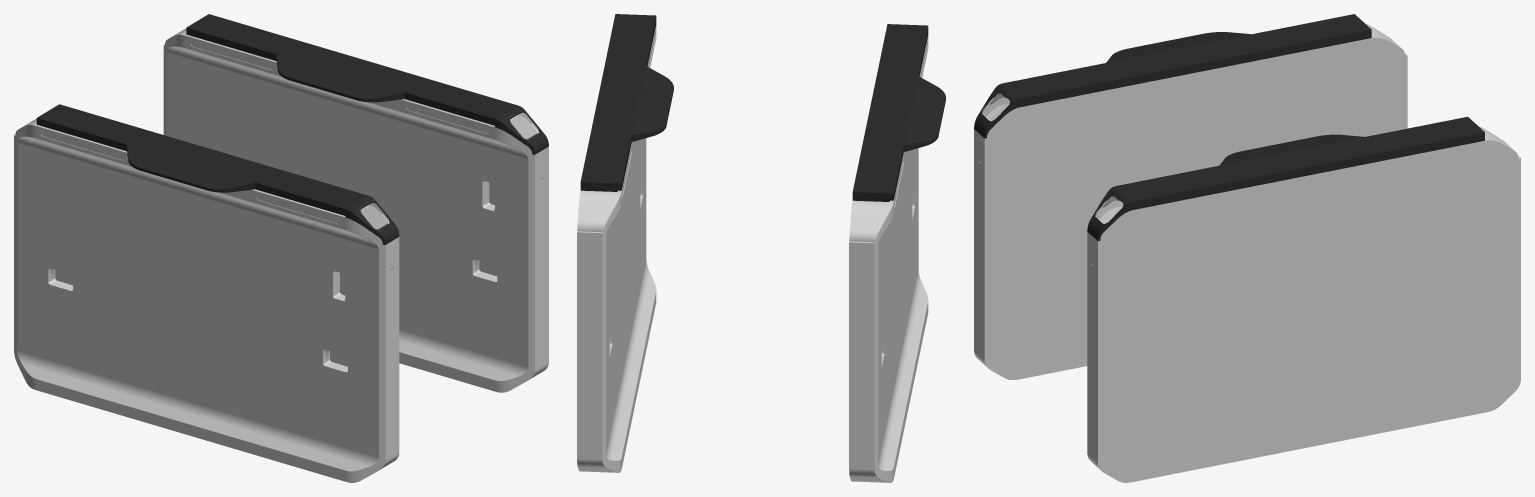
File: gateModel.glb
3 renders of one model, left to right at view 1: azimuth 30°, elevation 25°; view 2: azimuth 150°, elevation 25°; view 3: azimuth 270°, elevation 25°, orthographic. The views are drawn at different scales.
Parts seen in each view (by area): view 1: gateBodyLeftMesh, gateBodyRightMesh, gateCoverTopLeftMesh, gateCoverTopRightMesh, gateCoverSideLeftMesh, gateCoverSideRightMesh; view 2: gateBodyLeftMesh, gateBodyRightMesh, gateCoverTopLeftMesh, gateCoverTopRightMesh; view 3: gateBodyRightMesh, gateBodyLeftMesh, gateCoverTopRightMesh, gateCoverTopLeftMesh, gateCoverSideRightMesh, gateCoverSideLeftMesh.
Boxes of the visible parts, box(x1,y1,x2,y2) form: gateBodyLeftMesh: box(14, 119, 399, 482); gateBodyRightMesh: box(163, 28, 548, 392); gateCoverTopLeftMesh: box(36, 104, 367, 215); gateCoverTopRightMesh: box(186, 14, 516, 125); gateCoverSideLeftMesh: box(345, 195, 399, 244); gateCoverSideRightMesh: box(495, 105, 548, 154); gateBodyLeftMesh: box(849, 36, 928, 482); gateBodyRightMesh: box(577, 26, 656, 472); gateCoverTopLeftMesh: box(852, 26, 945, 201); gateCoverTopRightMesh: box(580, 16, 673, 191); gateBodyRightMesh: box(1087, 126, 1520, 482); gateBodyLeftMesh: box(974, 23, 1407, 379); gateCoverTopRightMesh: box(1117, 116, 1484, 209); gateCoverTopLeftMesh: box(1003, 14, 1371, 107); gateCoverSideRightMesh: box(1087, 186, 1133, 241); gateCoverSideLeftMesh: box(974, 83, 1020, 138).
Bounding box in the file's own units: 2.98 × 1.99 × 3.52.
Materials: 4 (2 with a texture image).
